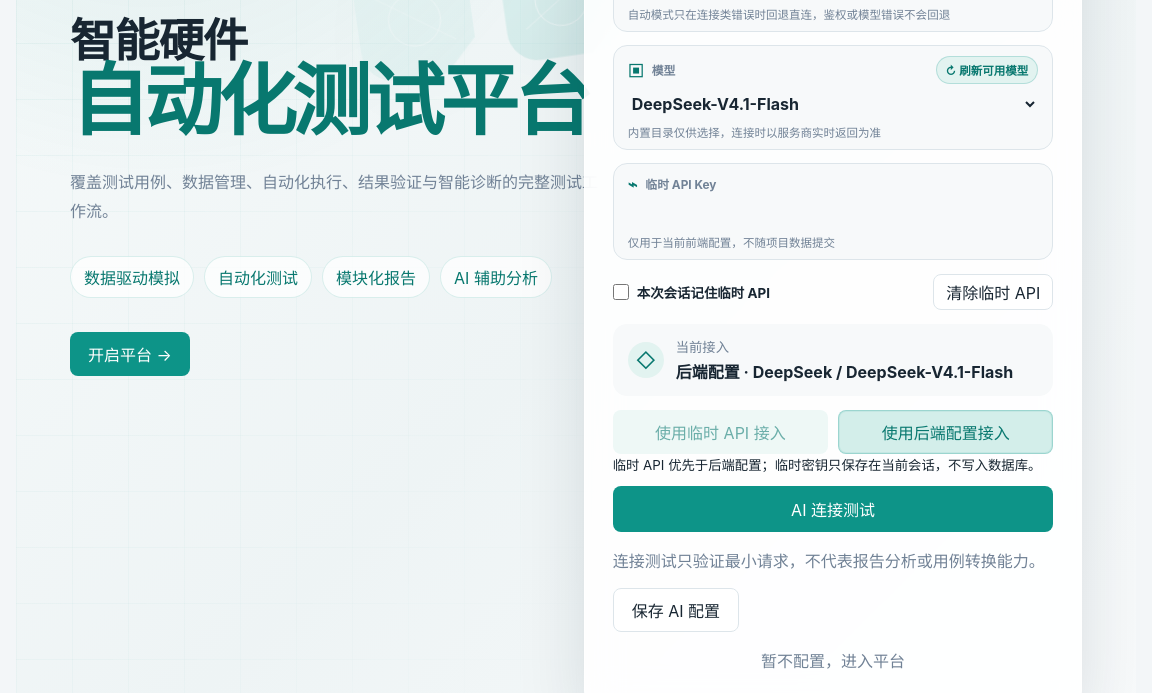
Test: 没有已登记数据包时展示空状态
(page scrolled)
Click the button "开启平台 →". click: (130,354)
box: [70, 332, 190, 376]
(page scrolled)
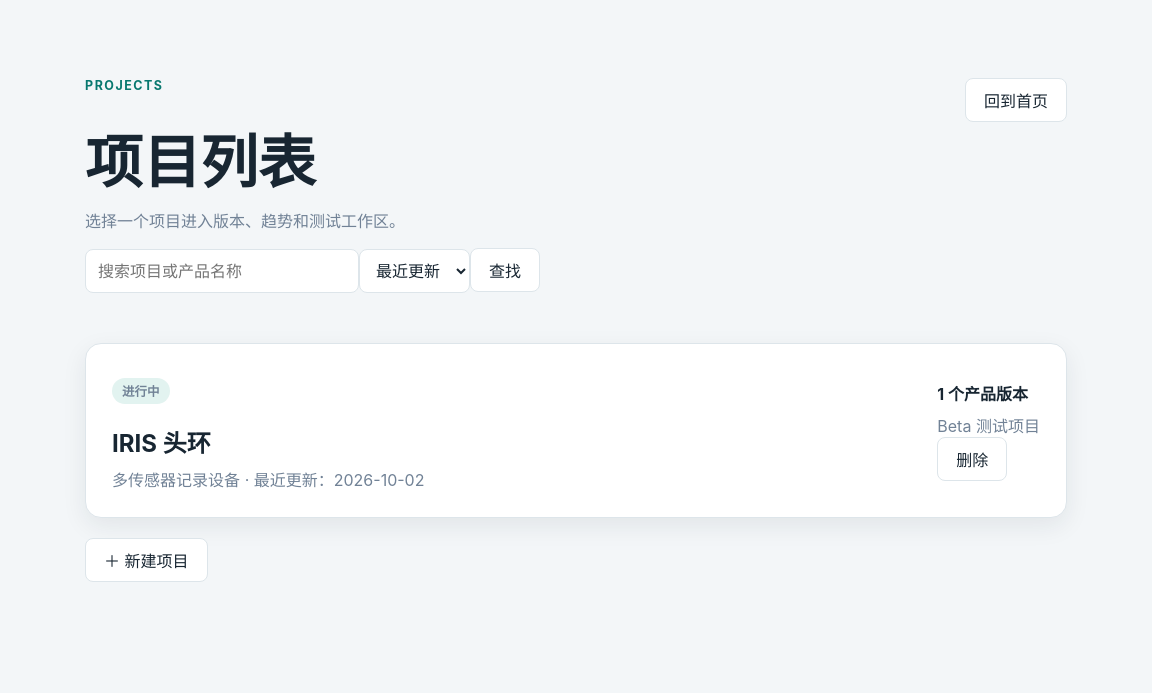
Click the button "进行中 IRIS 头环 多传感器记录设备 · 最近更新：2026-10-02 1 个产品版本 Beta 测试项目 删除". click: (576,431)
box: [85, 343, 1067, 518]
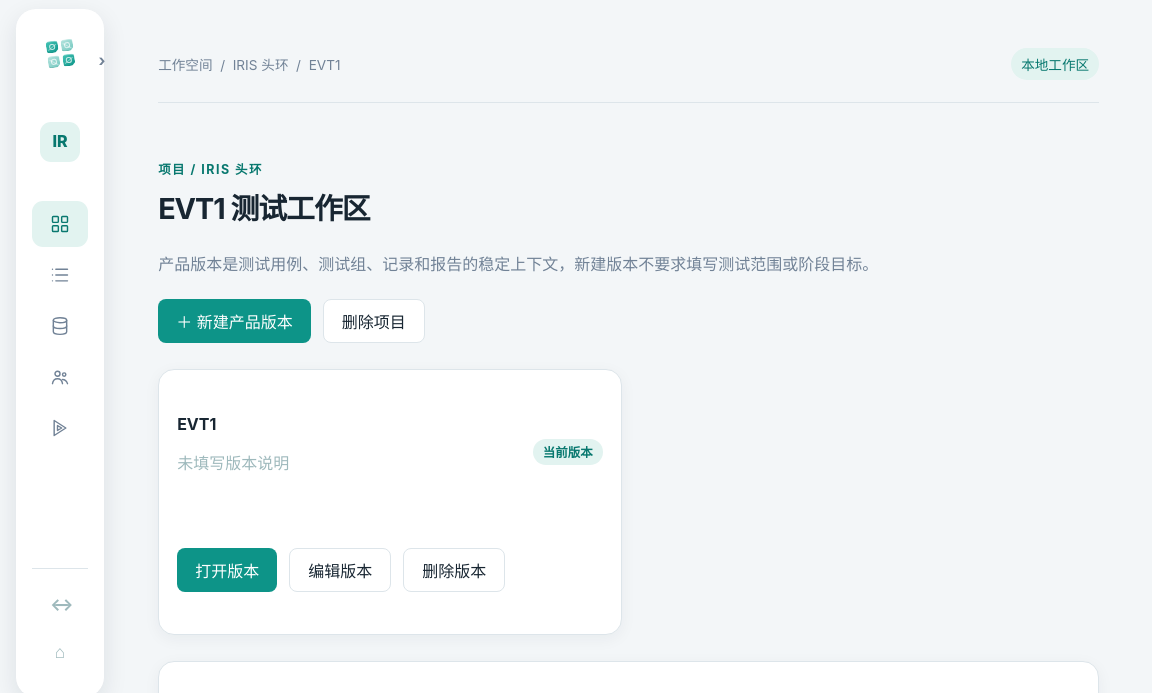
Click the button named "测试数据". click: (60,326)
box: [32, 303, 88, 349]
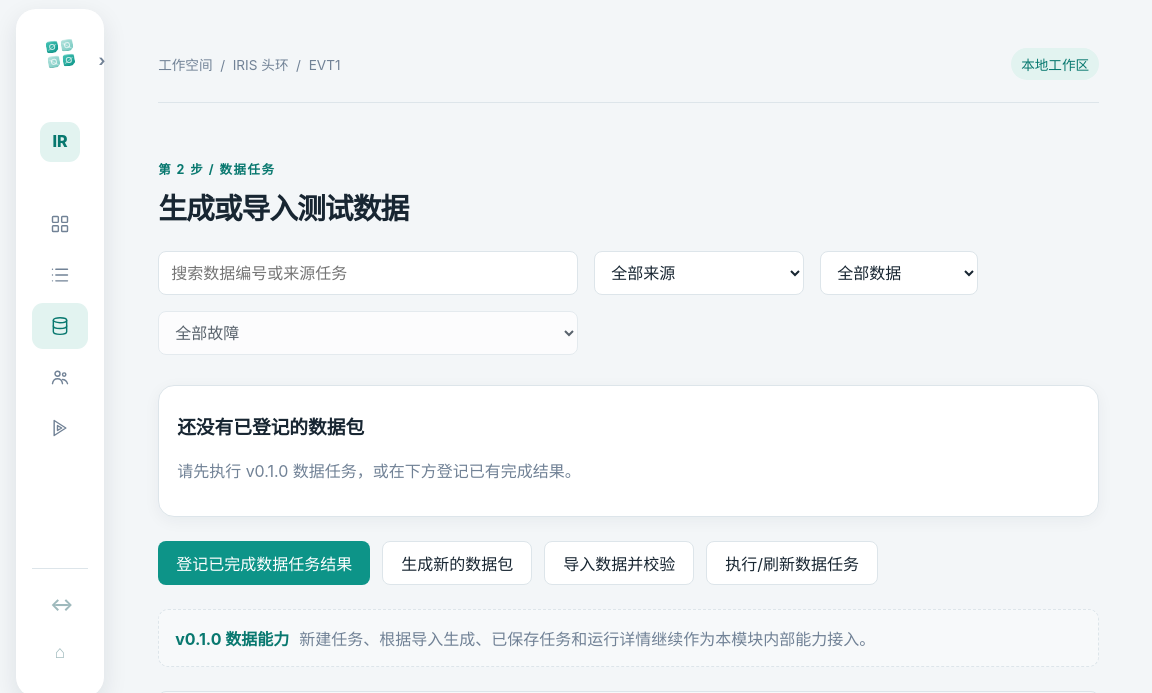
Expected: the button "登记已完成数据任务结果" is shown, [158, 541, 370, 585]
Expected: the heading "还没有已登记的数据包" is shown, [177, 416, 364, 439]
